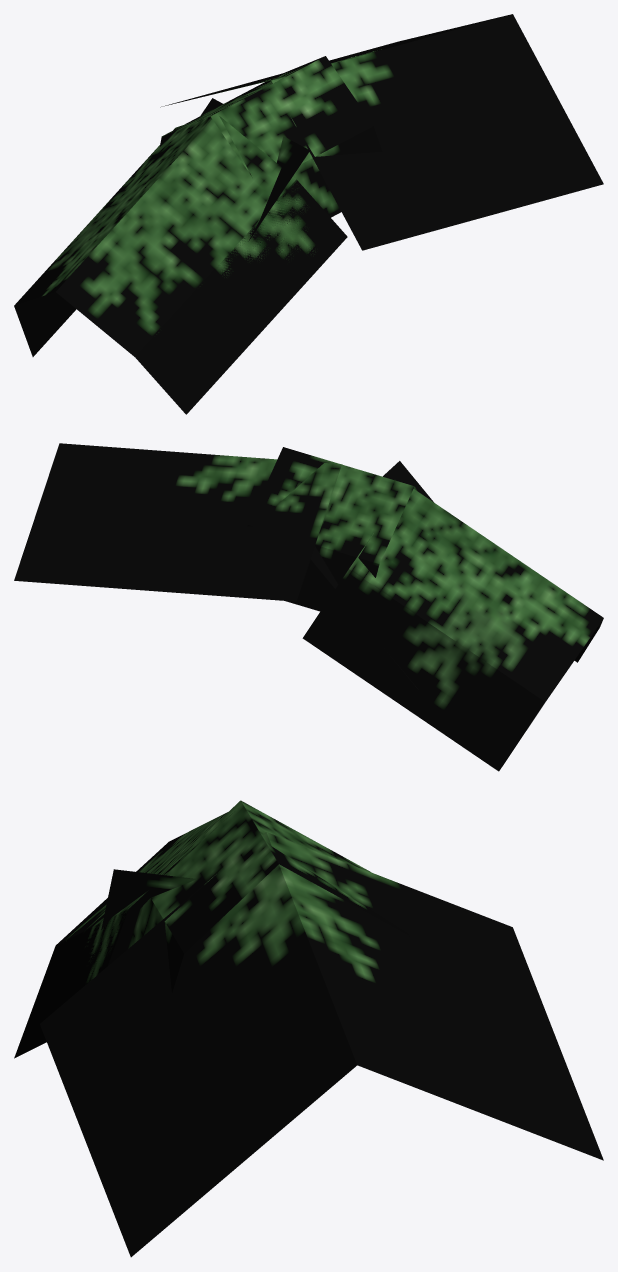
File: spruce_leaves_slab_3.obj
3 renders of one model, top to bottom at view 1: azimuth 30°, elevation 25°; view 2: azimuth 150°, elevation 25°; view 3: azimuth 270°, elevation 25°, orthographic. The views are drawn at different scales.
Parts seen in each view (by area): view 1: plane, cube; view 2: plane, cube; view 3: plane, cube.
Part boxes in pixels (left/top/right/bottom): plane: left=14, top=14, right=603, bottom=414; cube: left=200, top=98, right=309, bottom=241; plane: left=14, top=443, right=603, bottom=771; cube: left=311, top=461, right=433, bottom=689; plane: left=14, top=800, right=603, bottom=1257; cube: left=101, top=869, right=196, bottom=965.
Size of the model in its own units: 2.89 by 1.34 by 1.83.
